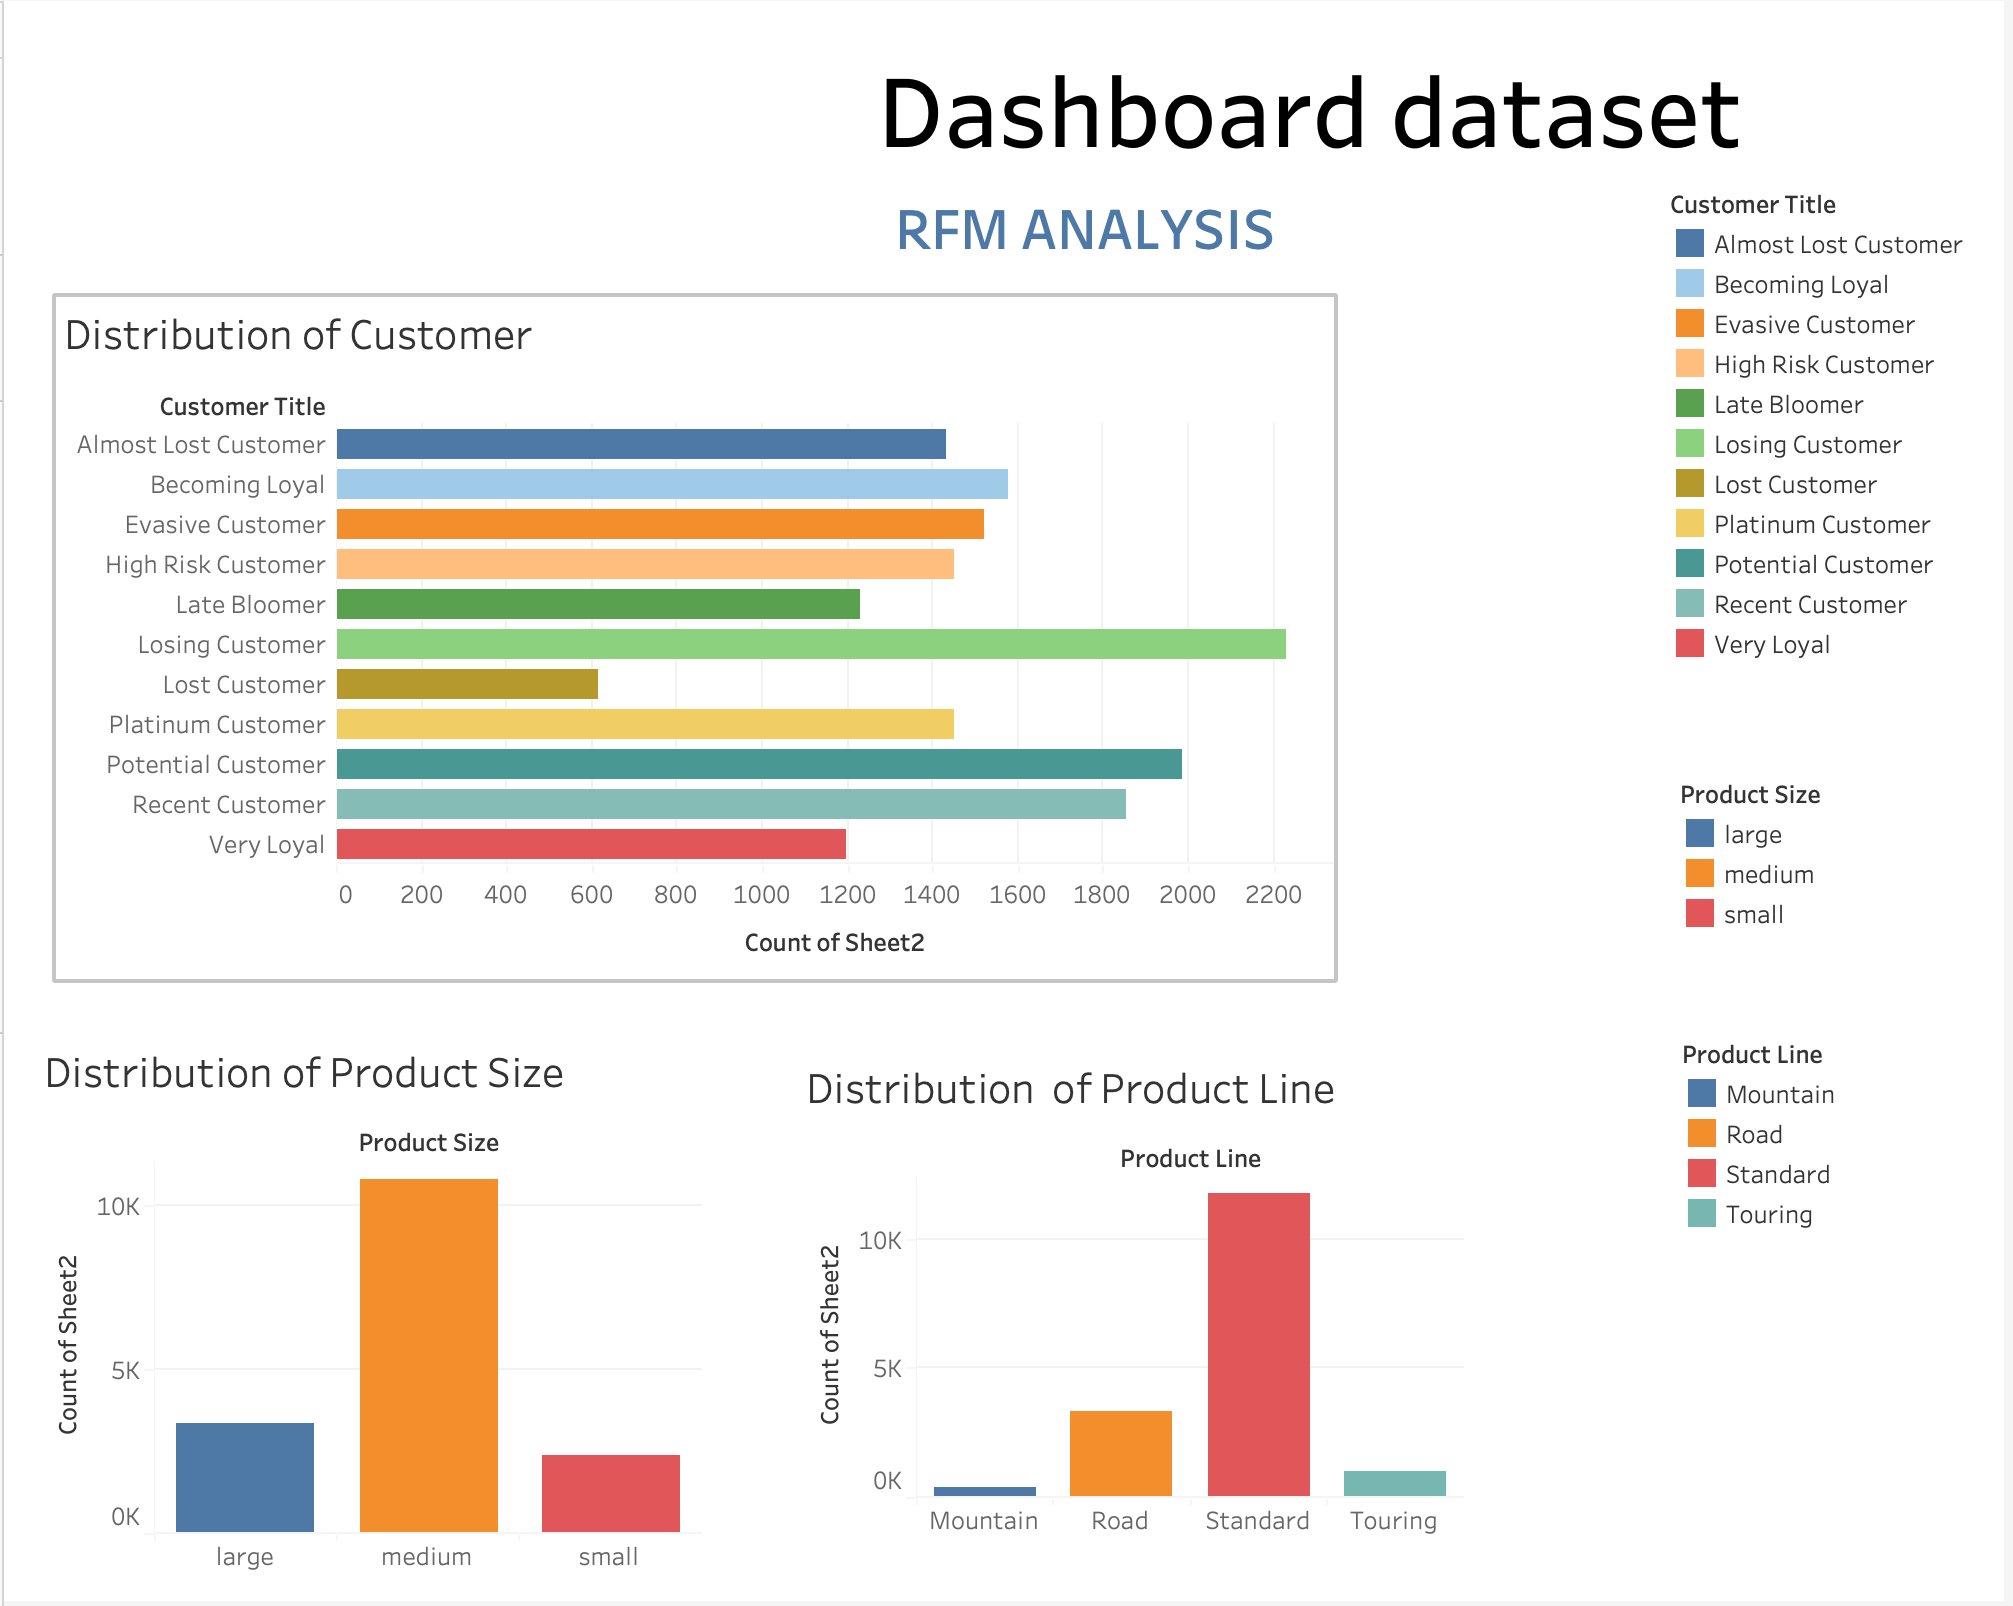

Layout of this report page (visuals, bound fields, positions):
{"tool":"tableau","page":{"name":"Dashboard 1","canvas":[1000,800],"ordinal":0},"visuals":[{"type":"worksheet","title":"Sheet 1","mark":"Automatic","rows":["Sheet2_6D7869A7755F4C3EBD8934C027EA8D14"],"cols":["Customer Title"],"box":[8,8,412,392]},{"type":"worksheet","title":"Sheet 2","mark":"Automatic","rows":["Profit"],"cols":["transaction_date"],"box":[420,8,412,392]},{"type":"legend","title":"Sheet 1","param":"[federated.0a4iceo1ifilvj1a160rm11dy7g9].[none:wealth_segment:nk]","box":[832,8,160,87]},{"type":"legend","title":"Sheet 2","param":"[federated.0a4iceo1ifilvj1a160rm11dy7g9].[none:Customer Title:nk]","box":[832,95,160,247]},{"type":"legend","title":"Sheet 4","param":"[federated.0a4iceo1ifilvj1a160rm11dy7g9].[none:state:nk]","box":[832,342,160,87]},{"type":"worksheet","title":"Sheet 3","mark":"Automatic","rows":["Profit"],"cols":["wealth_segment"],"box":[8,400,412,392]},{"type":"worksheet","title":"Sheet 4","mark":"Automatic","rows":["Sheet2_6D7869A7755F4C3EBD8934C027EA8D14"],"cols":["state"],"box":[420,400,412,392]}]}

Visuals, with their boxes in screenshot pixels (x1, y1, x2, y2), scaled from the page's 1000x800 canvas onto the 2013x1606 screenshot:
"Sheet 1" worksheet: detection(16, 16, 845, 803)
"Sheet 2" worksheet: detection(845, 16, 1675, 803)
"Sheet 1" legend: detection(1675, 16, 1997, 191)
"Sheet 2" legend: detection(1675, 191, 1997, 687)
"Sheet 4" legend: detection(1675, 687, 1997, 861)
"Sheet 3" worksheet: detection(16, 803, 845, 1590)
"Sheet 4" worksheet: detection(845, 803, 1675, 1590)
